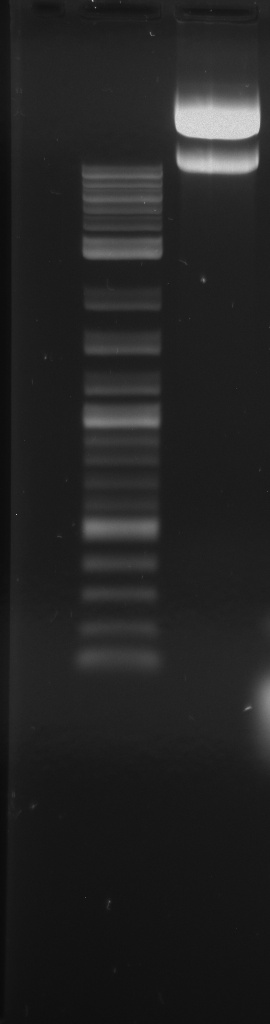Lane: (180, 12, 251, 980)
ladder: (72, 32, 168, 1024)
